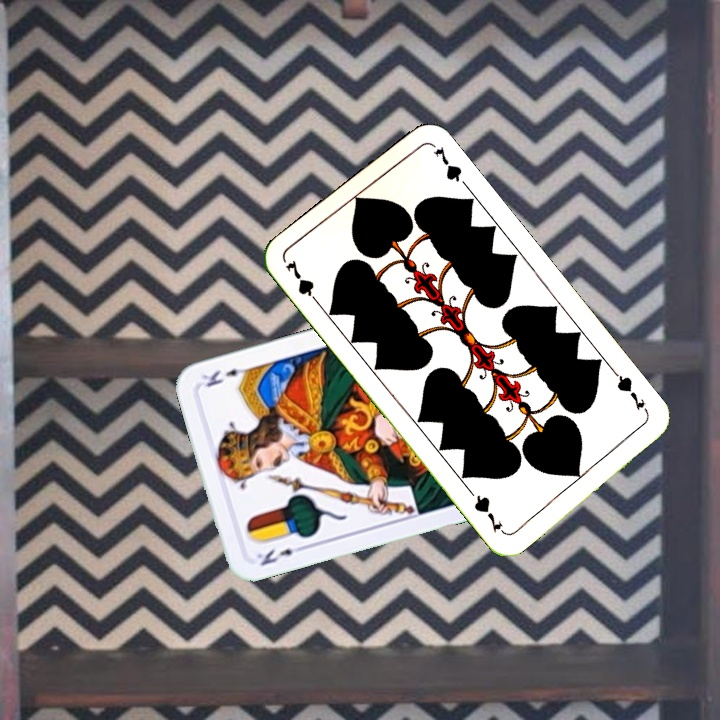EK: (253, 541, 308, 569)
G7: (281, 256, 324, 309), (610, 368, 652, 418)
